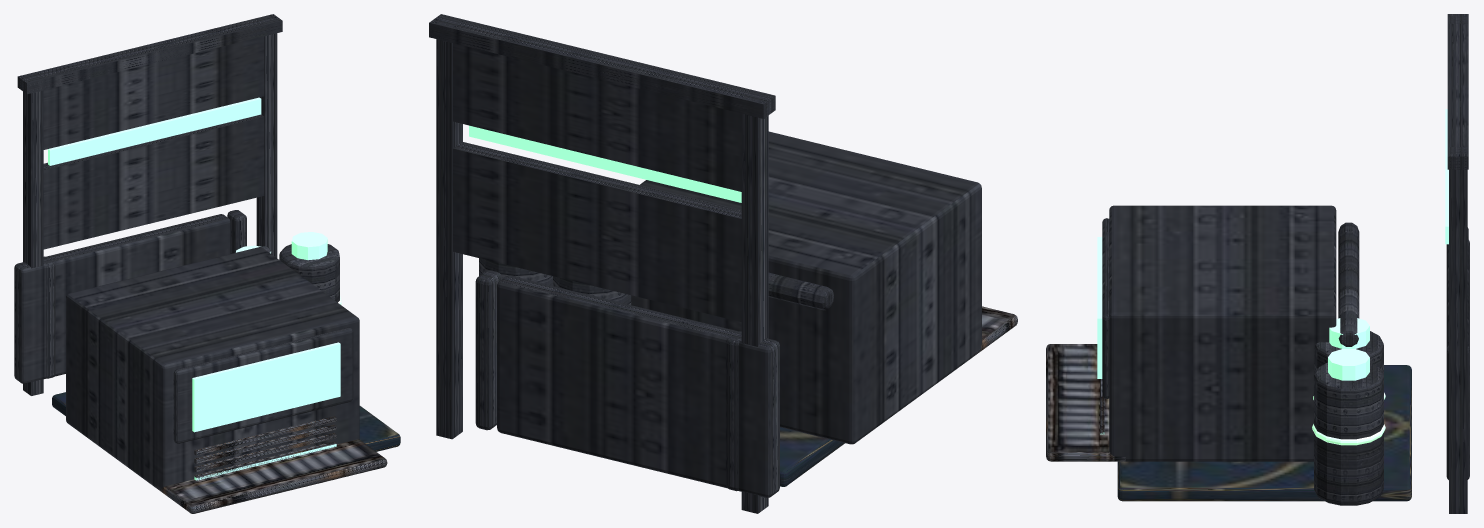
Rendered from ecosys_oxygen.glb.
3 renders of one model, left to right at view 1: azimuth 30°, elevation 25°; view 2: azimuth 150°, elevation 25°; view 3: azimuth 270°, elevation 25°, orthographic. The views are drawn at different scales.
Visible parts, largest first — view 1: sight_shell, body, rearframe, screen, step, bezel, sightglow, bottle1, toe, rearpost0, vent1, vent2 (+5 smaller); view 2: sight_shell, body, rearframe, rearpost2, sightglow, toe, rearpost0, duct, step, bottle1, bottle0; view 3: body, toe, sight_shell, bottle1, step, duct, bezel, bottlecap1, bottle0, screen, rearpost2, bottlecap0 (+2 smaller).
Part boxes in pixels (x1,y1,x2,y2): sight_shell: (17,14,282,395); body: (66,247,359,489); rearframe: (14,214,230,383); screen: (192,342,340,432); step: (156,439,387,513); bezel: (173,327,353,443); sightglow: (48,97,261,165); bottle1: (279,244,339,302); toe: (52,392,400,451); rearpost0: (43,256,55,378); vent1: (194,432,336,472); vent2: (194,424,336,463); sight_shell: (429,14,775,513); body: (631,131,981,444); rearframe: (497,275,779,497); rearpost2: (475,270,501,430); sightglow: (469,125,741,202); toe: (780,427,844,486); rearpost0: (726,331,741,491); duct: (768,272,833,310); step: (974,306,1017,355); bottle1: (479,258,552,285); bottle0: (553,276,631,304); body: (1109,205,1336,461); toe: (1117,365,1411,501); sight_shell: (1447,14,1468,513); bottle1: (1314,362,1383,505); step: (1046,344,1125,461); duct: (1338,222,1359,346); bezel: (1102,218,1109,398); bottlecap1: (1328,349,1369,380); bottle0: (1314,331,1383,375); screen: (1097,237,1102,378); rearpost2: (1446,345,1469,479); bottlecap0: (1329,318,1369,348).
Size of the model in its own units: 1.57 by 1.7 by 1.81.
6 materials, 4 textured.
